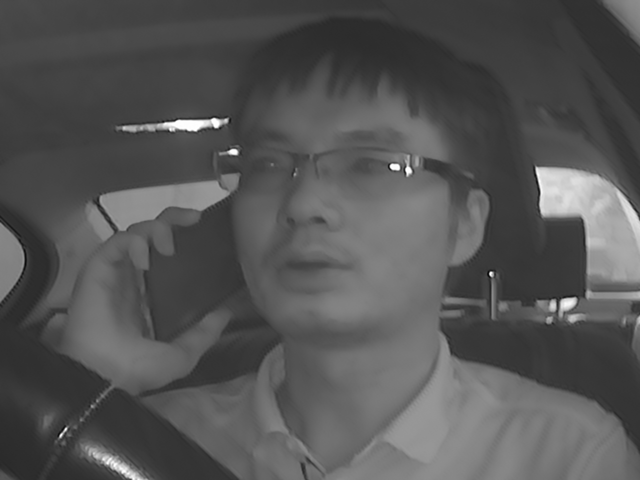hand: (78, 203, 214, 387)
